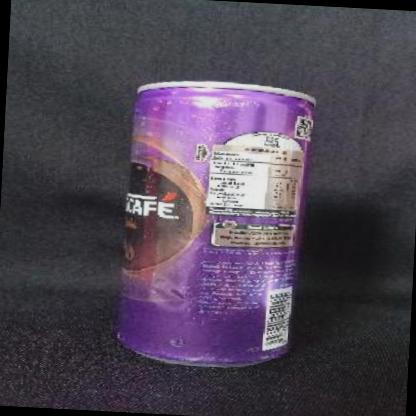alumunium_can: (114, 77, 316, 372)
